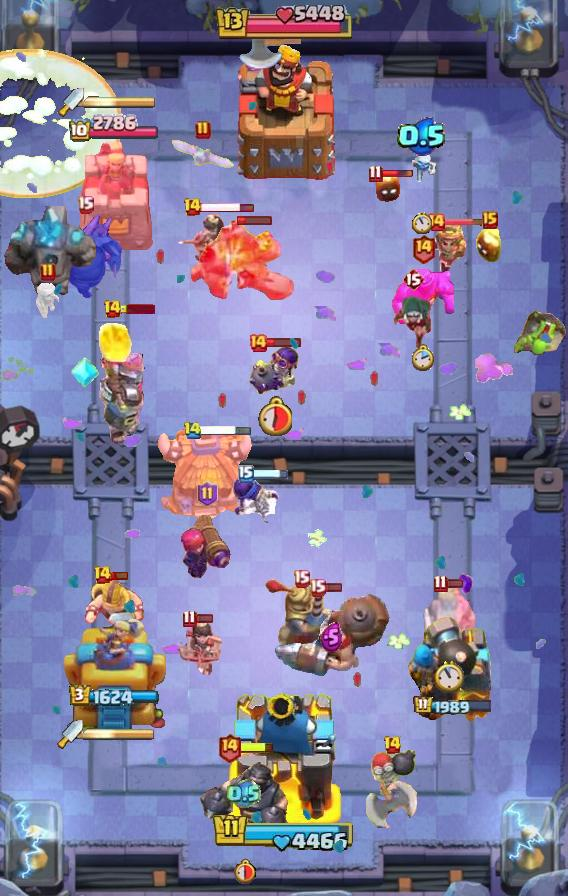axe: (235, 15, 301, 71), (364, 764, 418, 828)
bandit: (391, 296, 435, 352)
bar: (200, 201, 255, 214), (199, 424, 253, 437), (444, 217, 498, 226), (239, 741, 275, 754), (252, 468, 289, 480), (266, 337, 302, 348), (237, 215, 273, 226), (119, 304, 155, 314), (380, 169, 414, 179), (109, 570, 129, 581), (195, 613, 214, 624), (324, 582, 343, 593), (445, 578, 464, 589)
bar-level: (217, 732, 242, 763), (411, 233, 436, 264), (197, 481, 218, 507), (402, 267, 424, 291), (248, 333, 268, 353), (426, 212, 446, 232), (383, 735, 402, 755), (93, 565, 112, 585), (103, 299, 122, 319), (183, 197, 202, 217), (183, 421, 202, 440), (309, 578, 326, 597), (293, 569, 310, 588), (77, 195, 94, 214), (40, 262, 56, 282), (195, 120, 211, 140), (238, 465, 254, 483), (482, 211, 498, 229), (182, 609, 197, 628), (433, 574, 448, 593), (368, 164, 383, 183)
bat-evolution: (169, 138, 237, 170)
bomber: (366, 746, 418, 800)
bomber-evolution: (230, 474, 282, 528), (248, 344, 300, 398)
cannoneer-tower: (403, 615, 503, 731)
clock: (257, 396, 292, 436), (434, 660, 464, 693), (412, 344, 435, 372), (232, 858, 256, 884), (412, 212, 432, 234)
dagger-duchess-tower: (62, 615, 167, 731), (73, 140, 155, 256)
dagger-duchess-tower-bar: (83, 727, 155, 741), (84, 95, 156, 109)
elite-barbarian: (82, 580, 144, 628)
elixir: (397, 117, 447, 156), (227, 779, 261, 809), (320, 622, 343, 652)
elixir-golem-mid: (392, 265, 454, 325)
fire-spirit: (474, 221, 506, 265), (374, 171, 402, 203)
firecracker-evolution: (179, 511, 235, 583)
goblin-ball: (510, 308, 568, 356)
ice-spirit-evolution-symbol: (71, 355, 99, 389)
king-tower: (227, 688, 342, 826), (230, 43, 338, 181)
king-tower-bar: (212, 812, 356, 854), (213, 5, 355, 43)
little-prince: (426, 220, 470, 278)
princess: (176, 212, 238, 264), (174, 617, 224, 675)
royal-ghost: (420, 584, 478, 652)
skeleton: (405, 143, 439, 187), (33, 283, 63, 321)
tower-bar: (68, 114, 160, 144), (69, 684, 159, 707), (413, 695, 493, 717)
